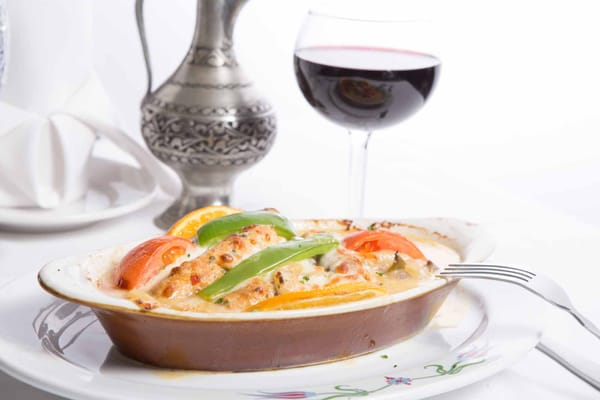burger: (435, 261, 600, 344)
sushi: (35, 211, 469, 372)
